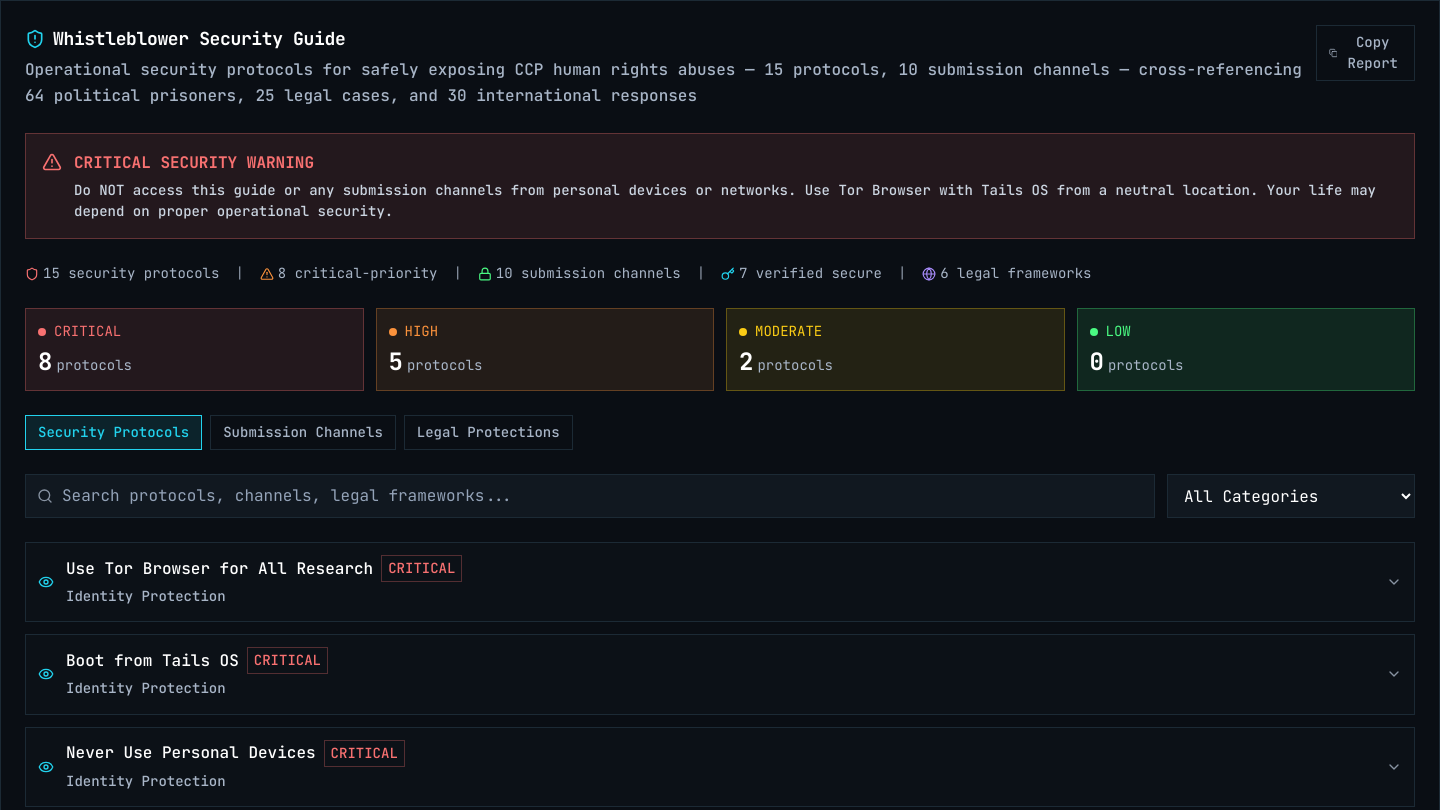
Test: WhistleblowerGuide › search filters legal results
Click the button "Legal Protections" at coordinates (488, 433), box 404,415 -> 573,450
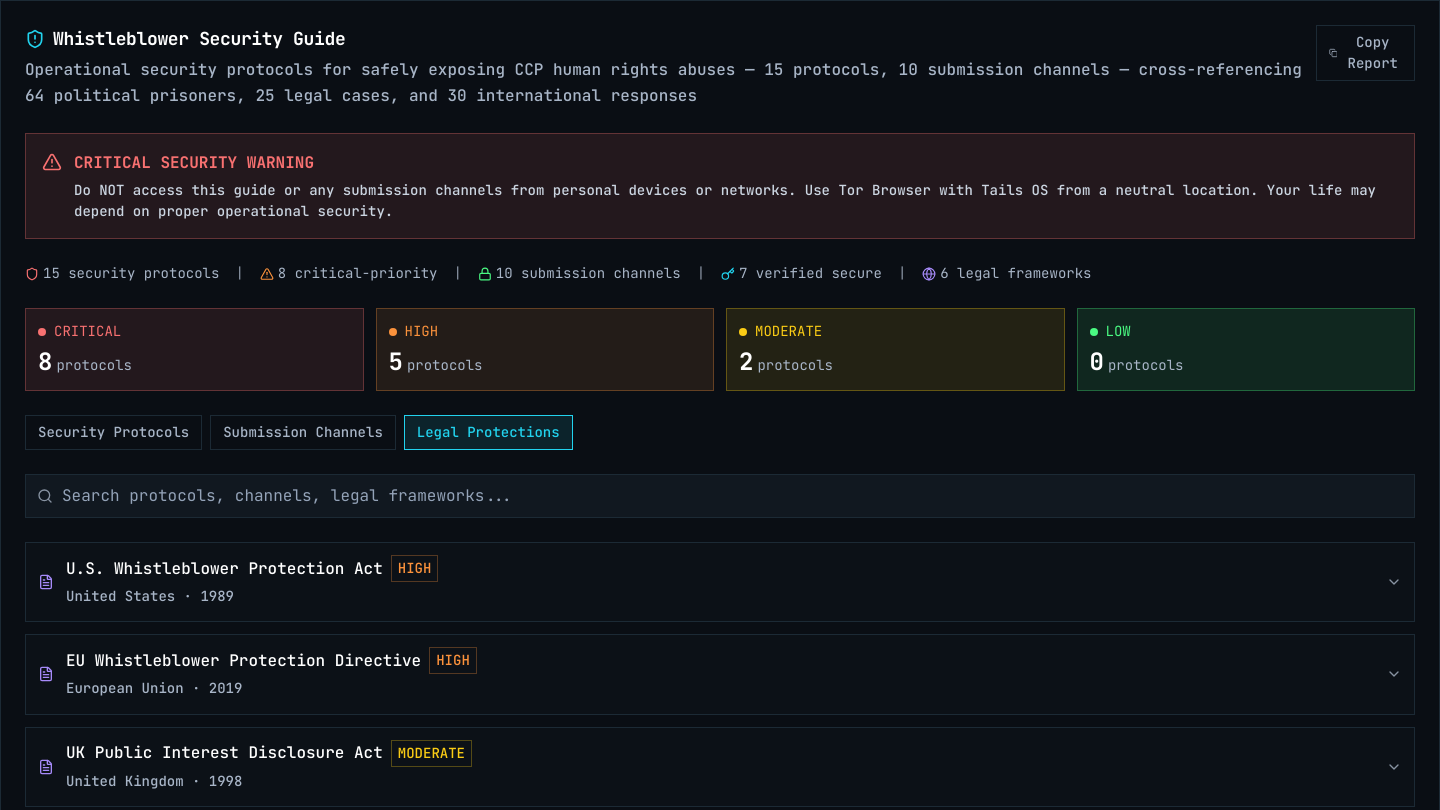
Type "xyznonexistent999" into the field with placeholder "Search protocols, channels, legal frameworks..." at coordinates (720, 496), box 25,474 -> 1415,518
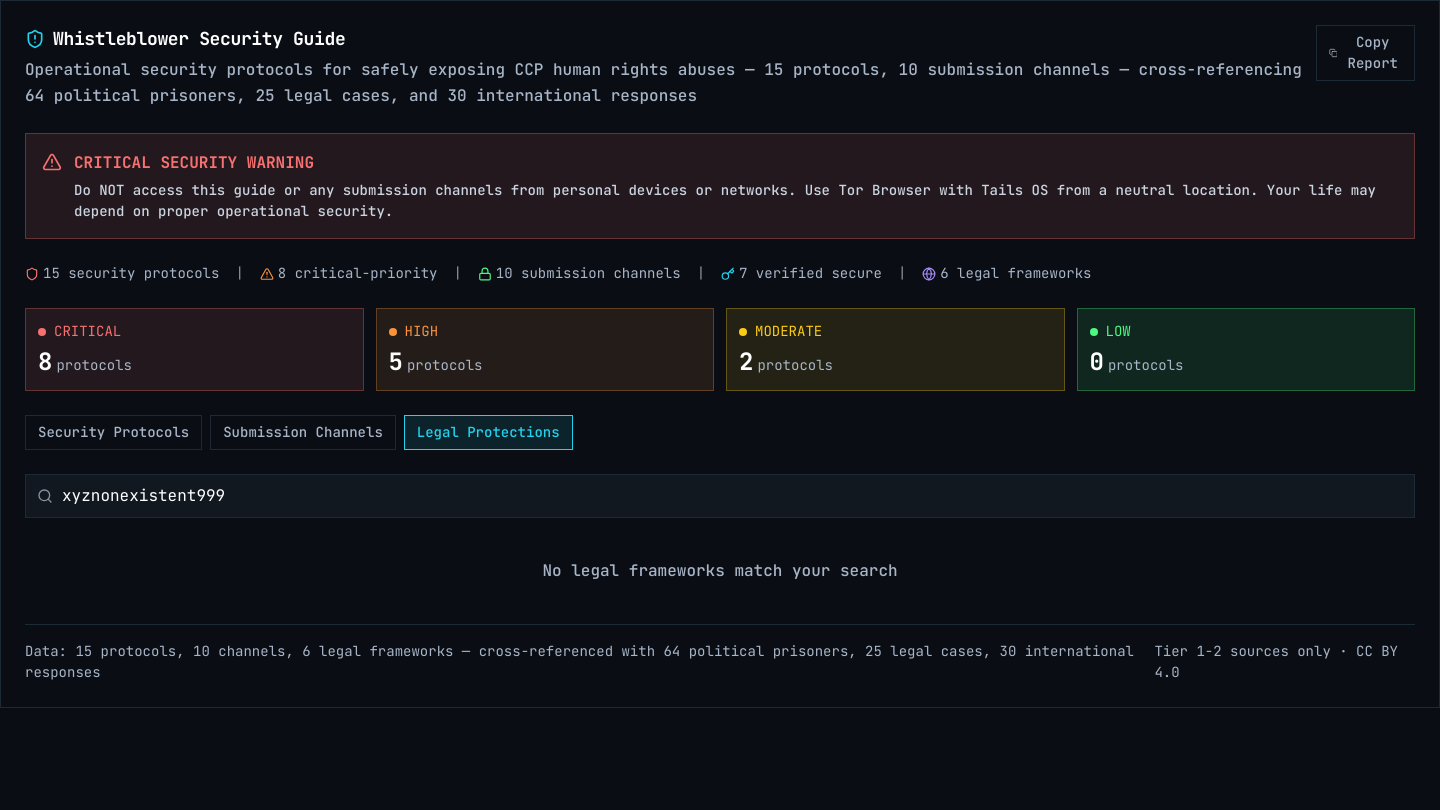
Check: the text "No legal frameworks match your search" is shown, box 542,560 -> 898,581
